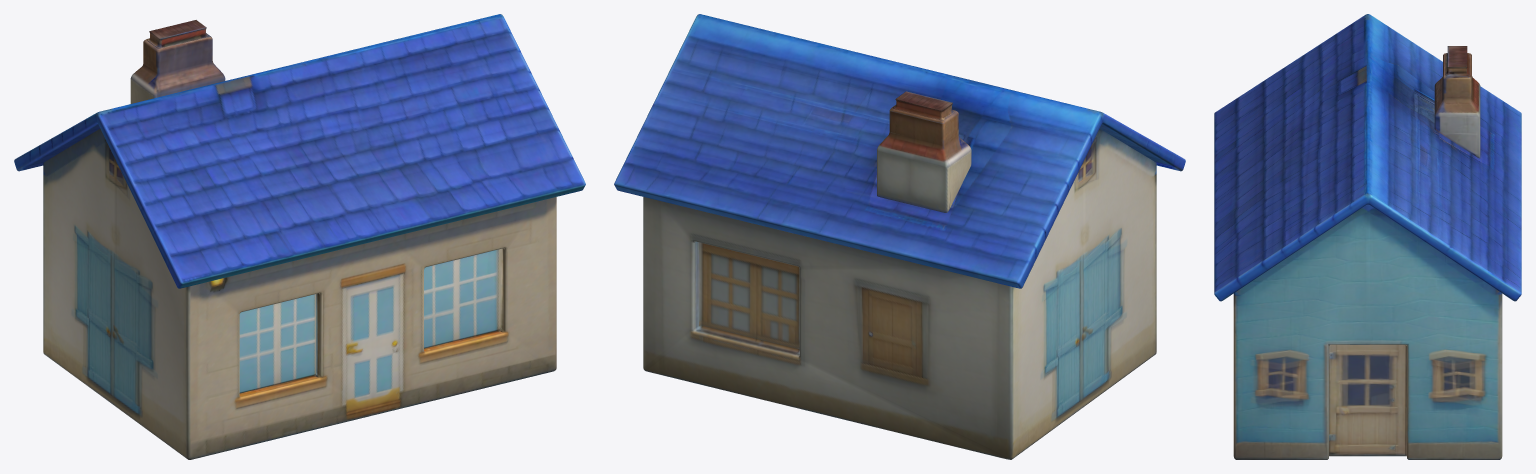
The model's file is Casita3_0415212449_texture.fbx.
The picture shows the model from 3 angles, left to right: view 1: azimuth 30°, elevation 25°; view 2: azimuth 150°, elevation 25°; view 3: azimuth 270°, elevation 25°; orthographic projection. The views are drawn at different scales.
Parts seen in each view (by area): view 1: Cube.014; view 2: Cube.014; view 3: Cube.014.
Part boxes in pixels (x1=…): Cube.014: x1=14, y1=14, x2=585, y2=459; Cube.014: x1=614, y1=14, x2=1185, y2=459; Cube.014: x1=1214, y1=14, x2=1521, y2=459.
Bounding box in the file's own units: 200 × 149 × 143.
1 material, 1 textured.
